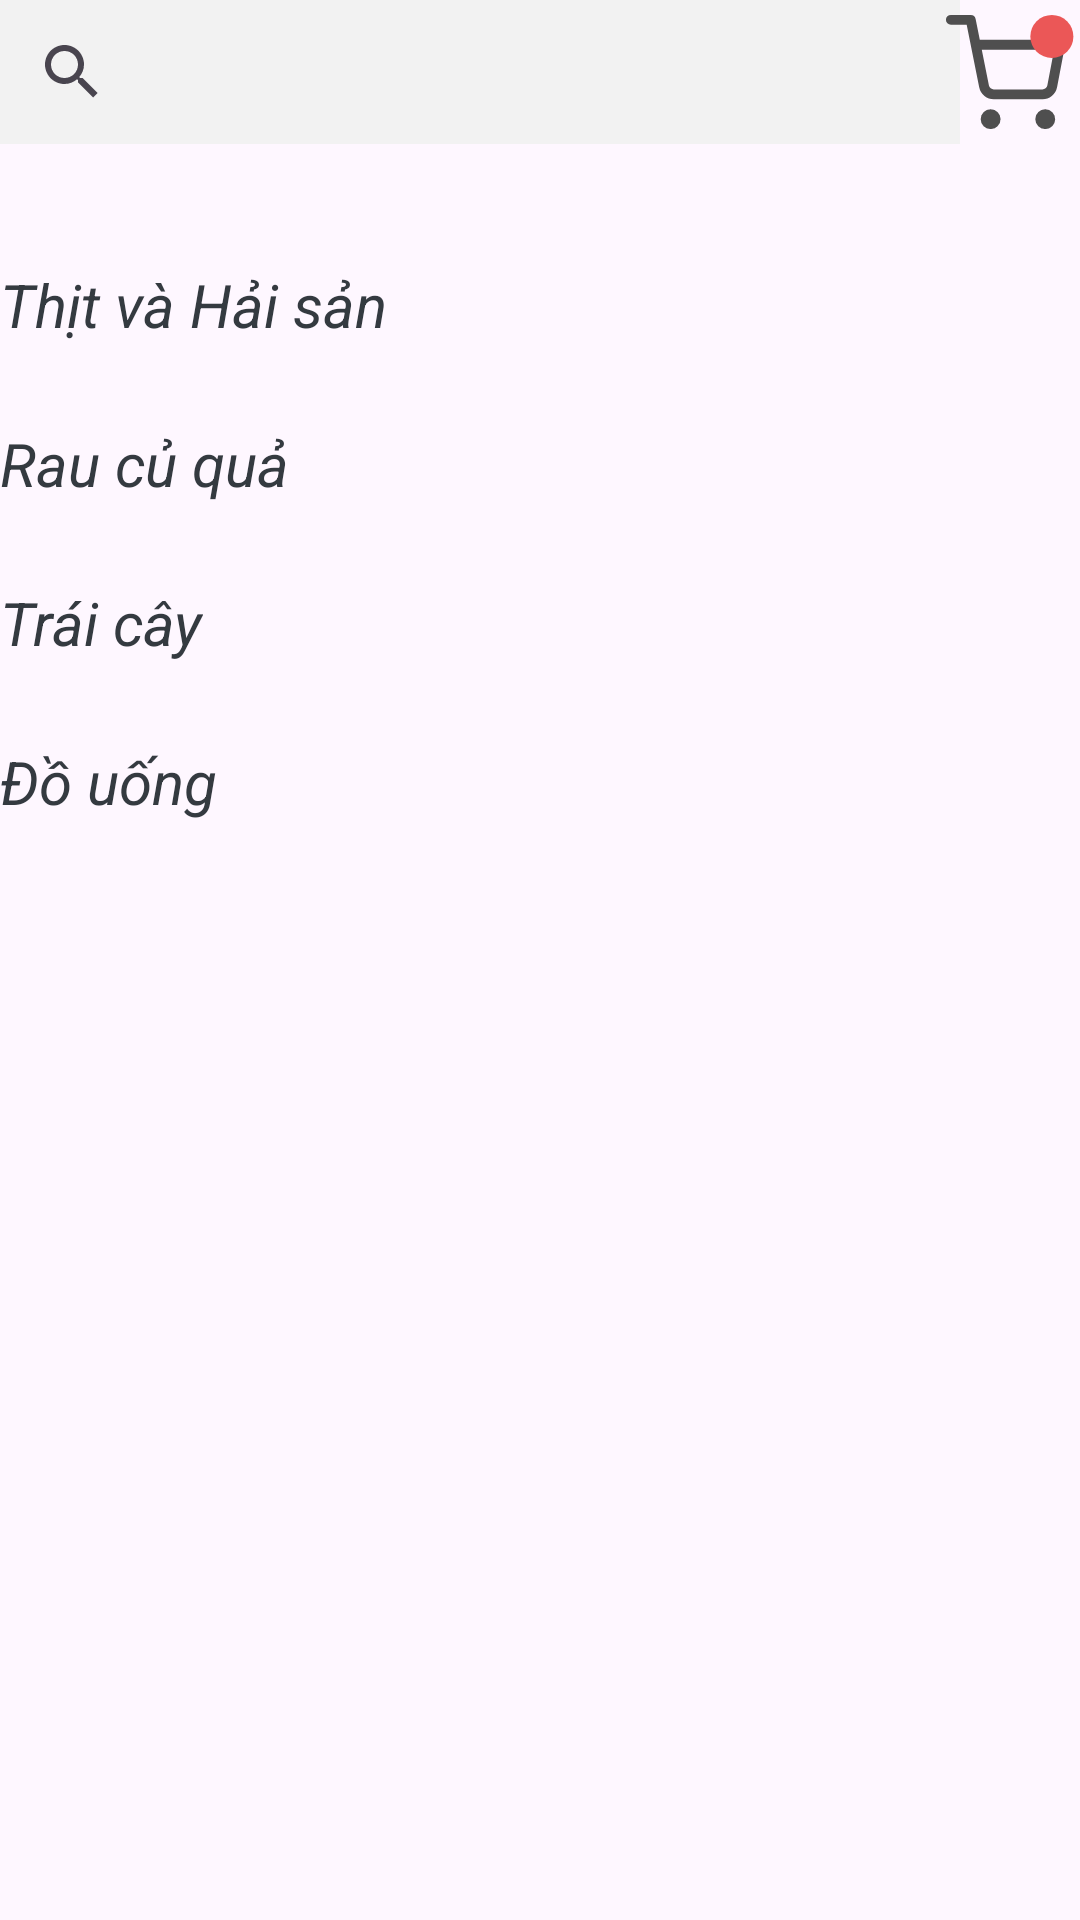

Locate icon controls on the screen. Image size 1080x1920, boxes as [x1, y1, x2, y2].
cart: [946, 15, 1074, 129]
